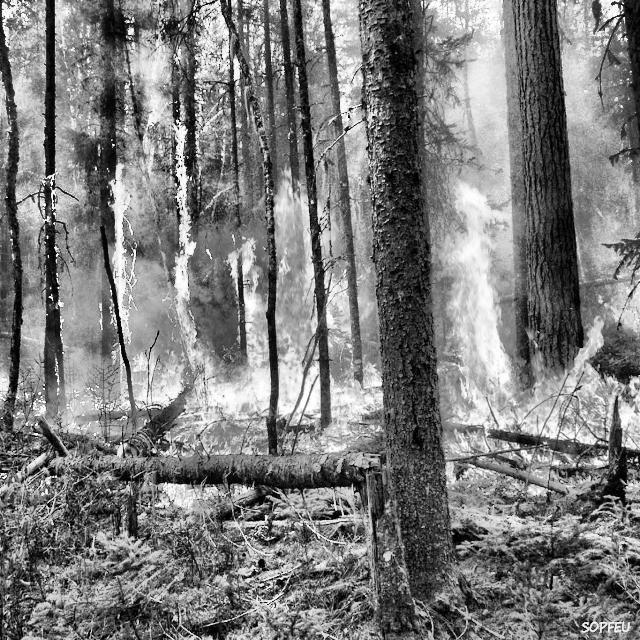fire: (20, 100, 619, 571)
